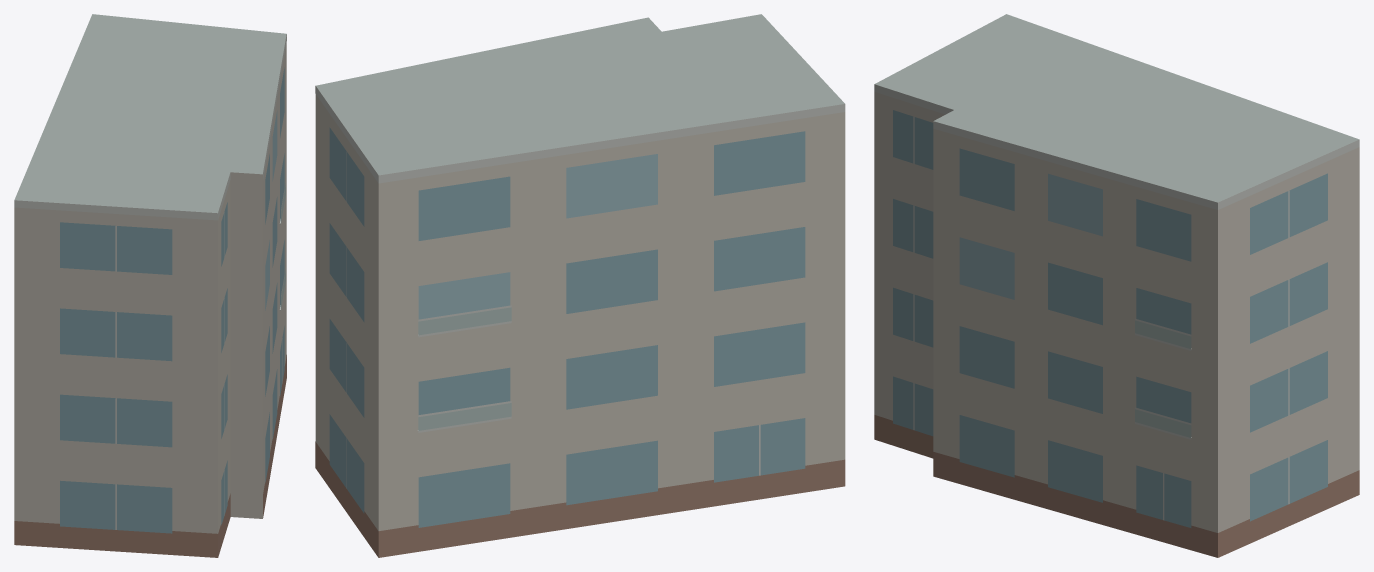
The model's file is survey-upis-32622103.glb.
3 views of the same model, side by side, from view 1: azimuth 30°, elevation 25°; view 2: azimuth 150°, elevation 25°; view 3: azimuth 270°, elevation 25° (orthographic). The views are drawn at different scales.
Parts seen in each view (by area): view 1: survey-upis-32622103.tmp; view 2: survey-upis-32622103.tmp; view 3: survey-upis-32622103.tmp.
Part boxes in pixels (box(x1,y1,x2,y2)): survey-upis-32622103.tmp: box(14, 14, 286, 557); survey-upis-32622103.tmp: box(315, 14, 845, 557); survey-upis-32622103.tmp: box(874, 14, 1359, 557).
Bounding box in the file's own units: 13.21 × 11.6 × 14.37.
